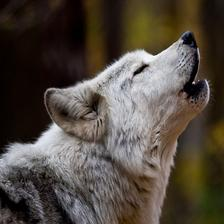WOLF: (0, 31, 210, 224)
